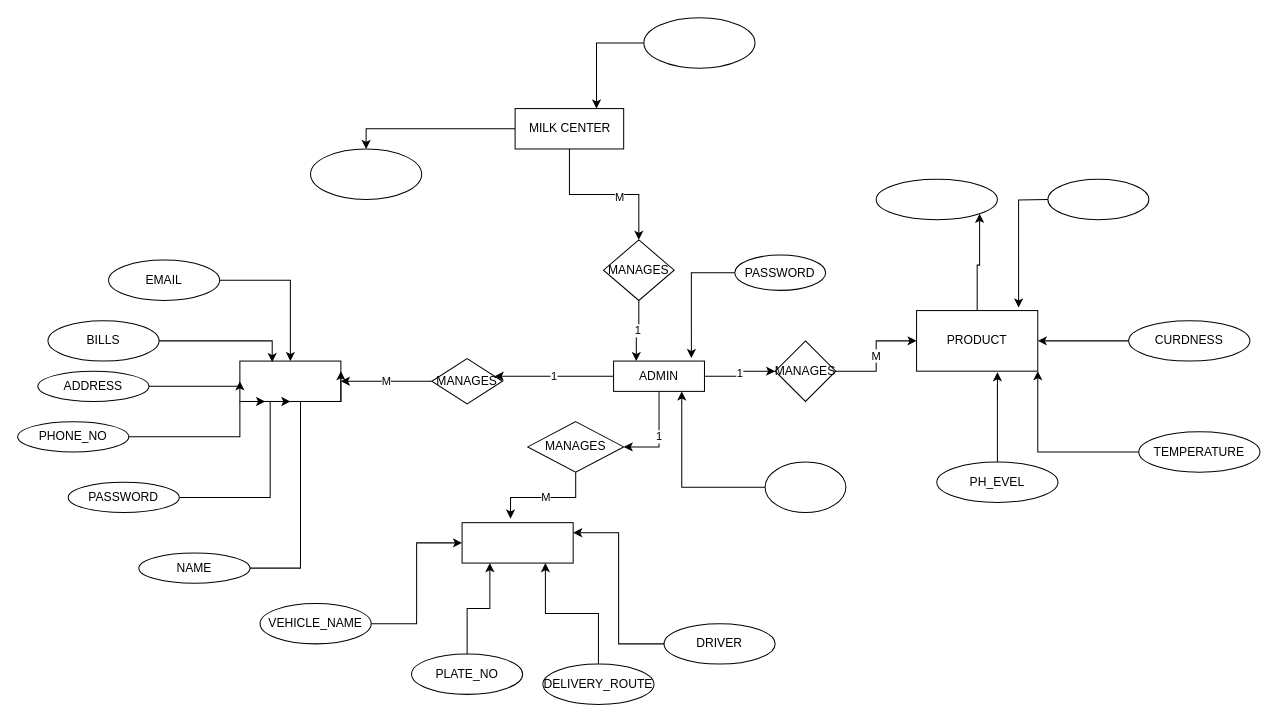
This 1278x722 diagram has some shape labels left out. Here are the shapes that lost their labels. From the top down, the box of each, then its label:
(643, 17, 755, 68): LOCATION
(310, 148, 422, 199): CENTER_NAME
(875, 178, 997, 220): PROD_NAME
(1047, 178, 1149, 220): QUANTITY_LEVEL
(239, 360, 341, 401): CLIENT
(764, 461, 846, 513): USER_1D
(461, 522, 573, 563): TRANSPORT
